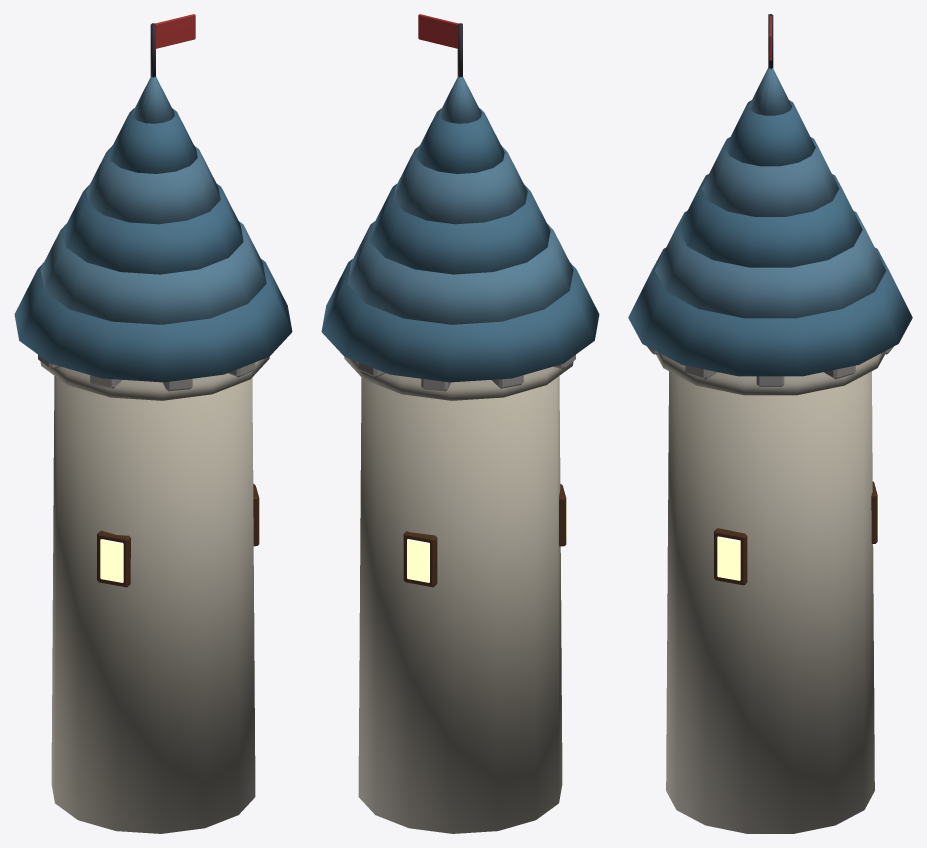
File: tower.glb
3 views of the same model, side by side, from view 1: azimuth 30°, elevation 25°; view 2: azimuth 150°, elevation 25°; view 3: azimuth 270°, elevation 25° (orthographic).
Parts seen in each view (by area): view 1: tower; view 2: tower; view 3: tower.
Boxes of the visible parts, x1,y1,x2,y2 form: tower: (14, 14, 292, 833); tower: (321, 14, 599, 833); tower: (628, 14, 912, 833).
Size of the model in its own units: 3.99 by 12.3 by 4.09.
